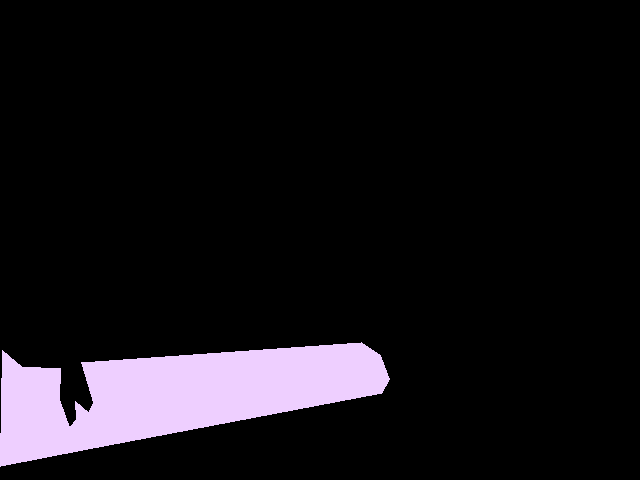Train: (0, 342, 389, 467)
